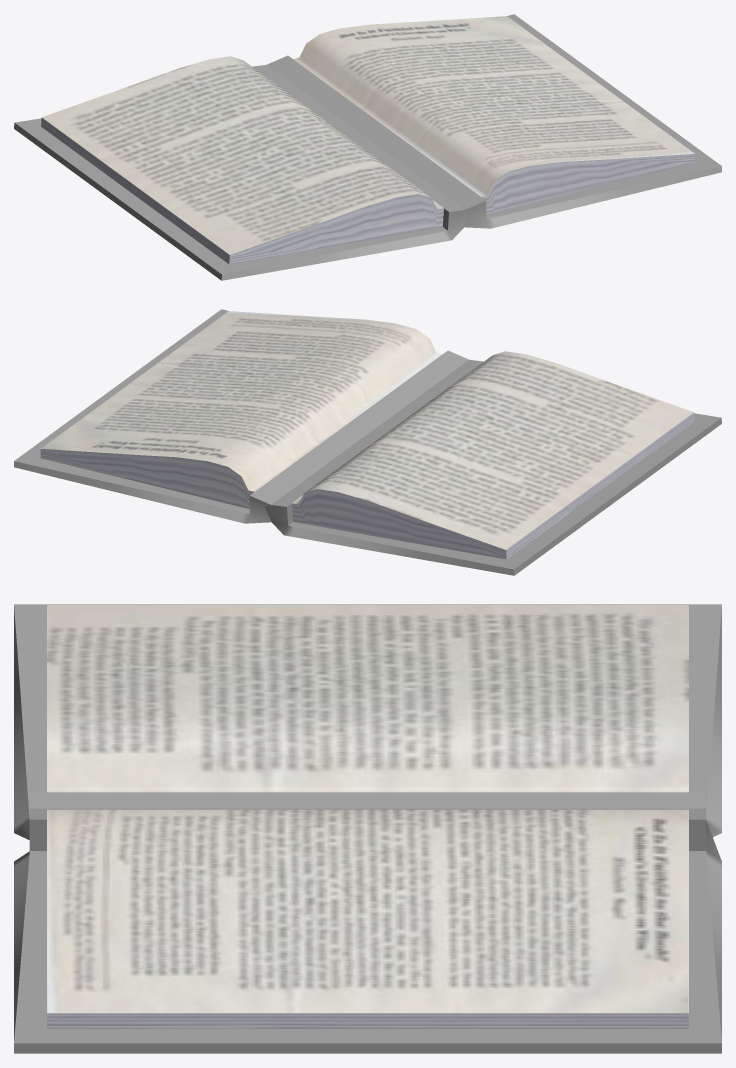
The model's file is open_book_model.fbx.
3 renders of one model, top to bottom at view 1: azimuth 30°, elevation 25°; view 2: azimuth 150°, elevation 25°; view 3: azimuth 270°, elevation 25°, orthographic. The views are drawn at different scales.
Parts seen in each view (by area): view 1: pCube9; view 2: pCube9; view 3: pCube9.
Part boxes in pixels (left/top/right/bottom): pCube9: left=14, top=14, right=721, bottom=280; pCube9: left=14, top=309, right=721, bottom=575; pCube9: left=14, top=604, right=721, bottom=1053.
Bounding box in the file's own units: 0.0627 × 0.00562 × 0.0451.
